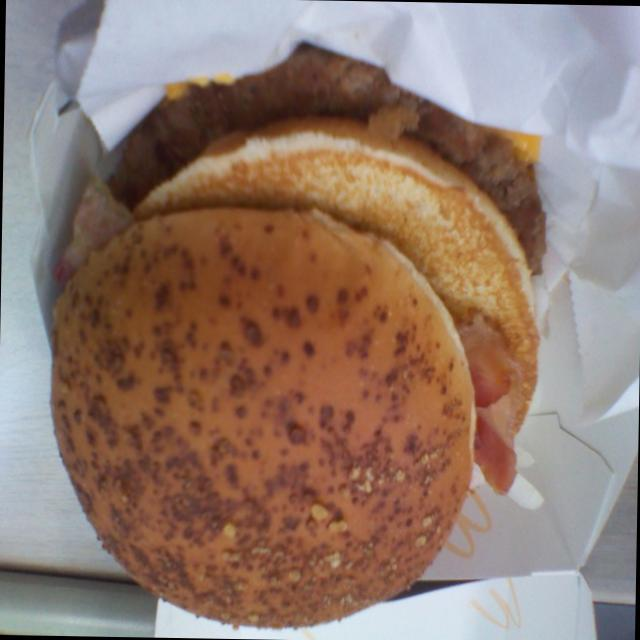Hamburger: (20, 27, 568, 640)
